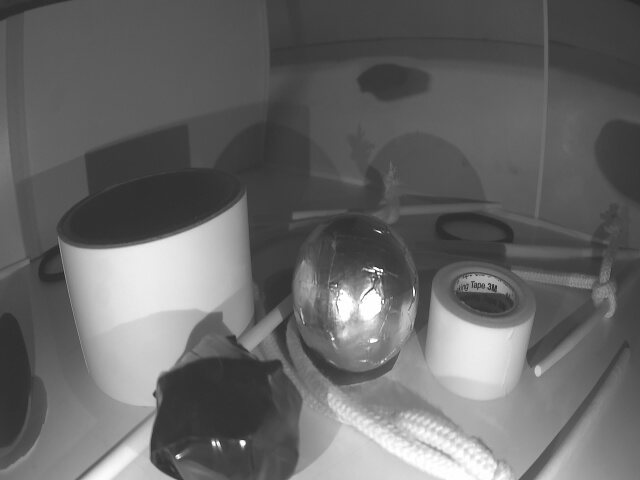Dead: (157, 343, 301, 480)
Live: (297, 214, 420, 373)
